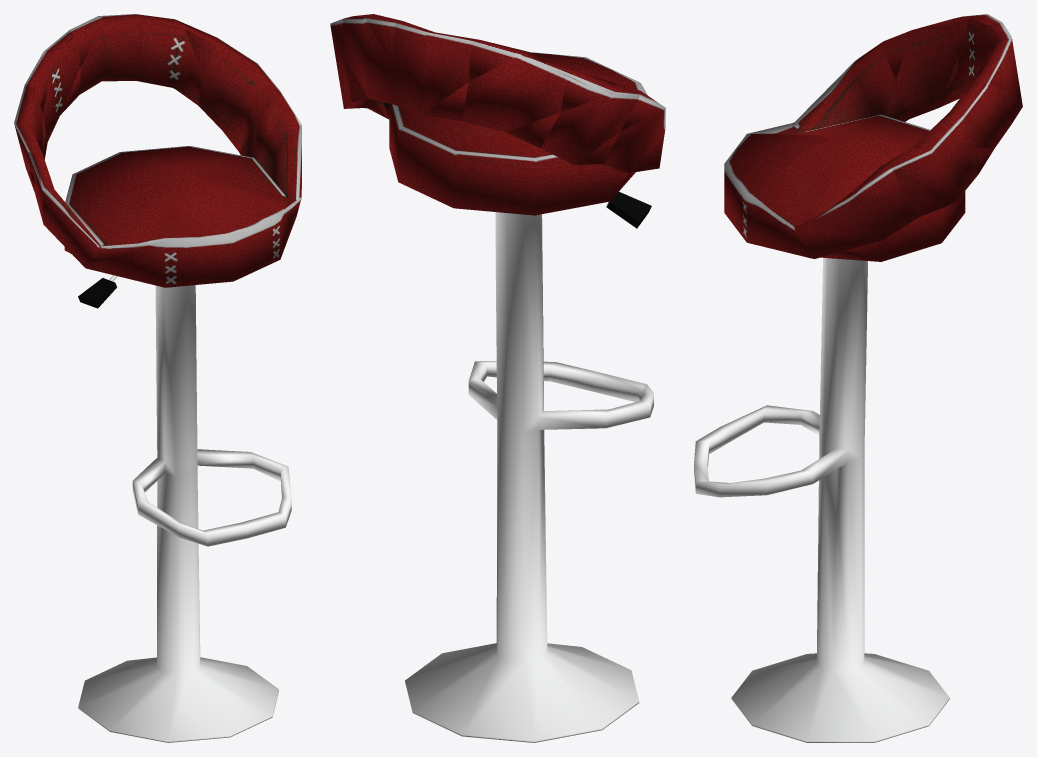
Rendered from BarChair.FBX.
The picture shows the model from 3 angles, left to right: view 1: azimuth 30°, elevation 25°; view 2: azimuth 150°, elevation 25°; view 3: azimuth 270°, elevation 25°; orthographic projection. The views are drawn at different scales.
Visible parts, largest first — view 1: BarChair; view 2: BarChair; view 3: BarChair.
Part boxes in pixels (x1=…): BarChair: x1=14, y1=14, x2=301, y2=742; BarChair: x1=330, y1=14, x2=665, y2=742; BarChair: x1=694, y1=14, x2=1022, y2=742.
Bounding box in the file's own units: 15.72 × 36.08 × 16.23.
1 material, 1 textured.
